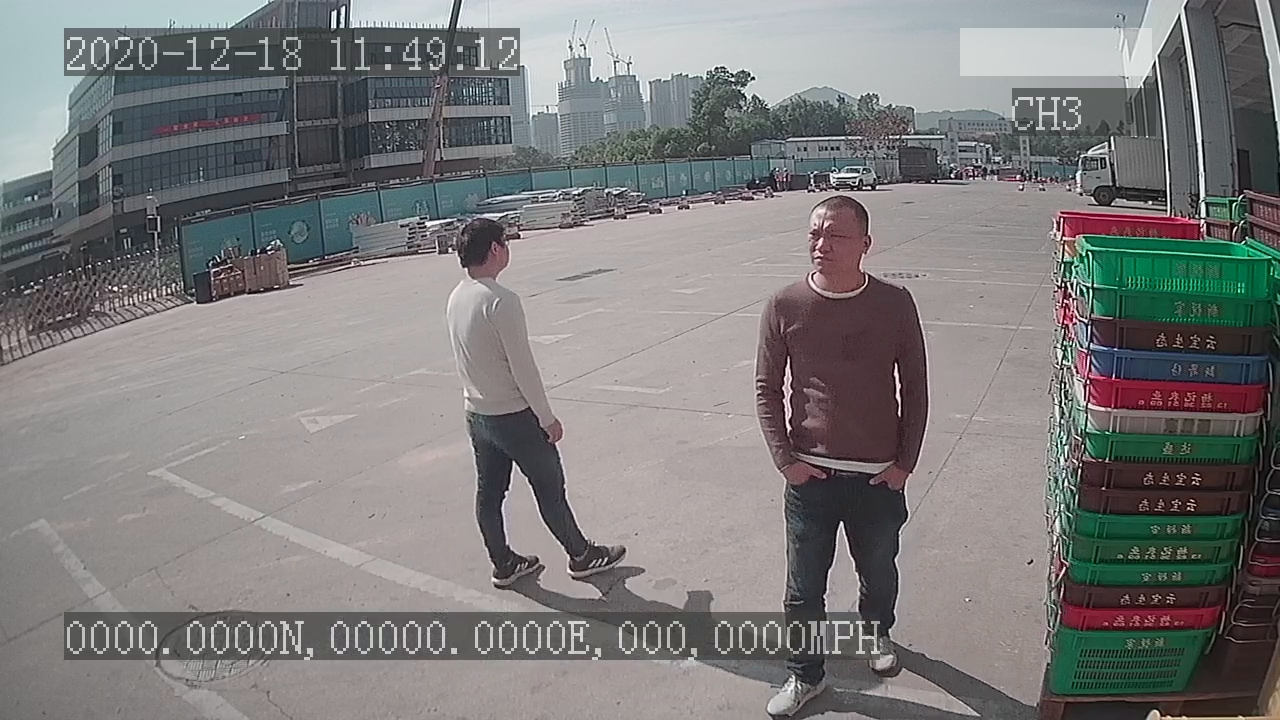person: (436, 211, 633, 590)
